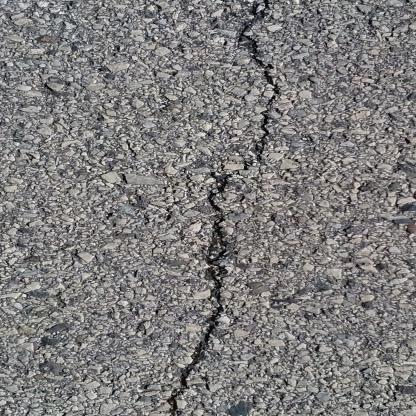Cracks: (94, 0, 294, 416)
